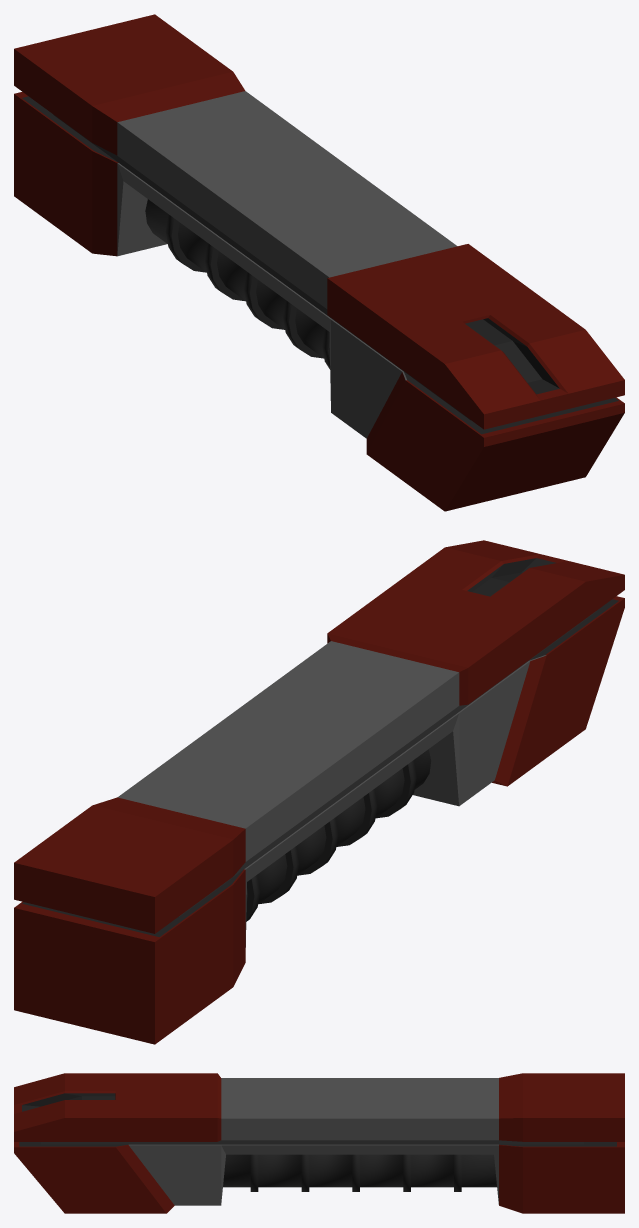
File: J5 Laser.fbx
3 renders of one model, top to bottom at view 1: azimuth 30°, elevation 25°; view 2: azimuth 150°, elevation 25°; view 3: azimuth 270°, elevation 25°, orthographic. The views are drawn at different scales.
Parts seen in each view (by area): view 1: J5 Laser; view 2: J5 Laser; view 3: J5 Laser.
Boxes of the visible parts, box(x1,y1,x2,y2) form: J5 Laser: box(14, 14, 624, 511); J5 Laser: box(14, 540, 624, 1044); J5 Laser: box(14, 1073, 624, 1213).
Bounding box in the file's own units: 96.59 × 96.59 × 558.
